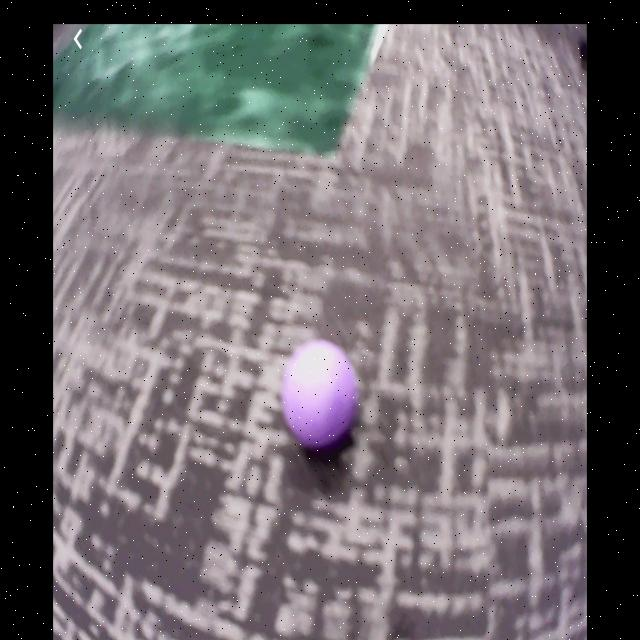ball: (286, 344, 359, 445)
